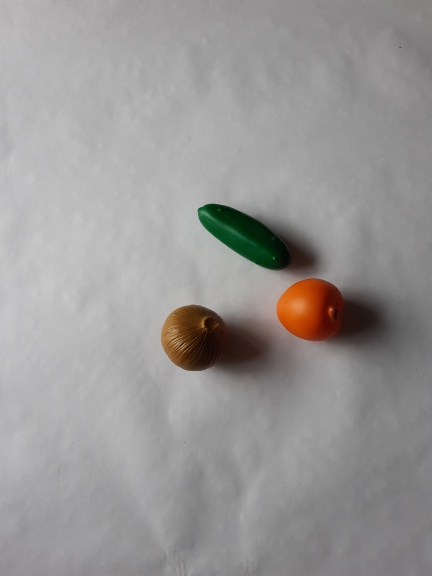apricot: (273, 273, 351, 347)
cucumber: (189, 195, 297, 278)
onion: (150, 296, 235, 378)
